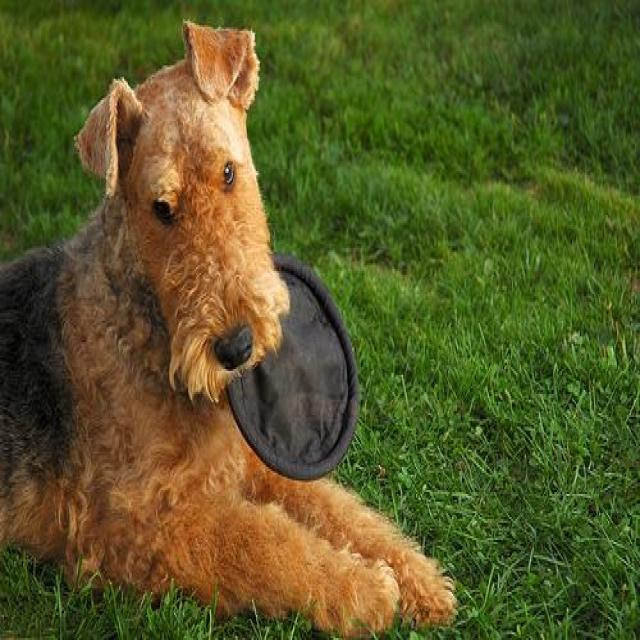airedale: (0, 19, 460, 638)
